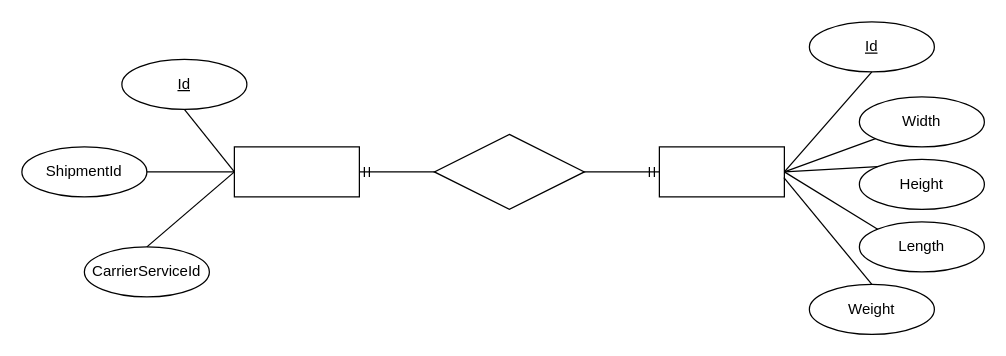
This 1006x356 diagram has some shape labels left out. The shapes that lost their labels are listed below. From the top down, each one's box as (x1, y1, x2, y2) in pixels, then its label:
(233, 146, 359, 197): Shipment
(433, 133, 584, 209): Has
(658, 146, 784, 197): Package
